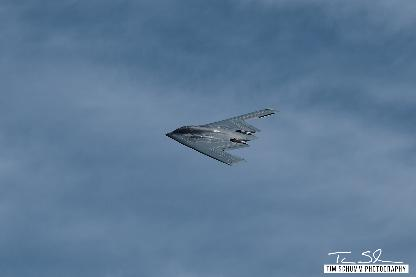B1: (164, 108, 280, 165)
